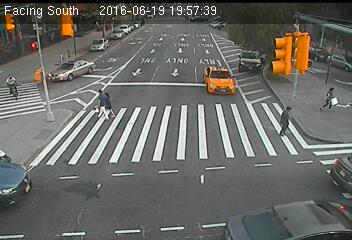neg: (162, 153, 192, 192), (36, 128, 63, 164), (35, 68, 60, 102), (207, 66, 231, 98), (271, 183, 295, 215), (221, 170, 245, 201), (105, 152, 128, 183), (13, 172, 36, 203), (301, 145, 324, 175), (233, 29, 256, 59), (19, 22, 41, 51), (1, 73, 22, 101), (60, 183, 81, 210), (59, 26, 79, 53), (164, 29, 184, 56), (321, 38, 341, 65), (280, 47, 298, 72), (132, 56, 149, 78)
pos: (276, 102, 301, 135), (321, 83, 343, 112), (89, 88, 110, 116)
